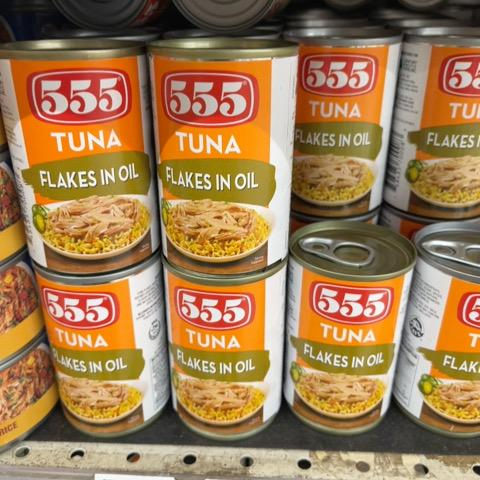canned-goods: (0, 38, 168, 266), (150, 29, 301, 268), (283, 217, 419, 419), (28, 254, 170, 439), (294, 17, 406, 215), (160, 258, 288, 425), (391, 217, 480, 438), (382, 24, 479, 209)
